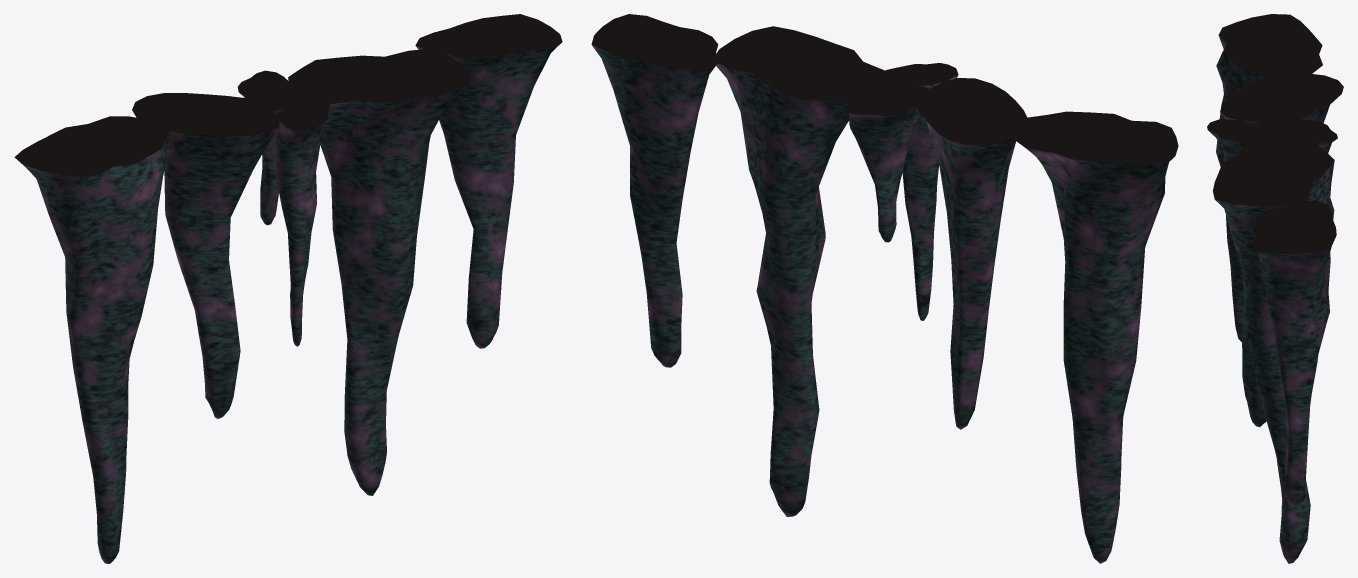
File: CA_161_stalactites.glb
The picture shows the model from 3 angles, left to right: view 1: azimuth 30°, elevation 25°; view 2: azimuth 150°, elevation 25°; view 3: azimuth 270°, elevation 25°; orthographic projection. The views are drawn at different scales.
Visible parts, largest first — view 1: stalactite_2, stalactite_3, stalactite_4, stalactite_1, stalactite_5, stalactite_6; view 2: stalactite_3, stalactite_2, stalactite_1, stalactite_4, stalactite_6, stalactite_5; view 3: stalactite_2, stalactite_1, stalactite_3, stalactite_4, stalactite_5, stalactite_6.
Part boxes in pixels (box(x1,y1,x2,y2)): stalactite_2: box(288, 48, 470, 495); stalactite_3: box(14, 116, 169, 563); stalactite_4: box(132, 93, 279, 418); stalactite_1: box(415, 14, 562, 348); stalactite_5: box(275, 99, 329, 346); stalactite_6: box(237, 70, 304, 225); stalactite_3: box(1014, 111, 1178, 563); stalactite_2: box(711, 26, 886, 516); stalactite_1: box(591, 14, 718, 367); stalactite_4: box(915, 78, 1028, 429); stalactite_6: box(844, 82, 928, 242); stalactite_5: box(879, 63, 958, 320); stalactite_2: box(1213, 137, 1334, 563); stalactite_1: box(1251, 200, 1336, 506); stalactite_3: box(1216, 14, 1322, 427); stalactite_4: box(1220, 73, 1343, 126); stalactite_5: box(1207, 119, 1268, 342); stalactite_6: box(1256, 119, 1337, 153).
Bounding box in the file's own units: 2.97 × 2.25 × 0.7158.
Materials: 2 (1 with a texture image).
